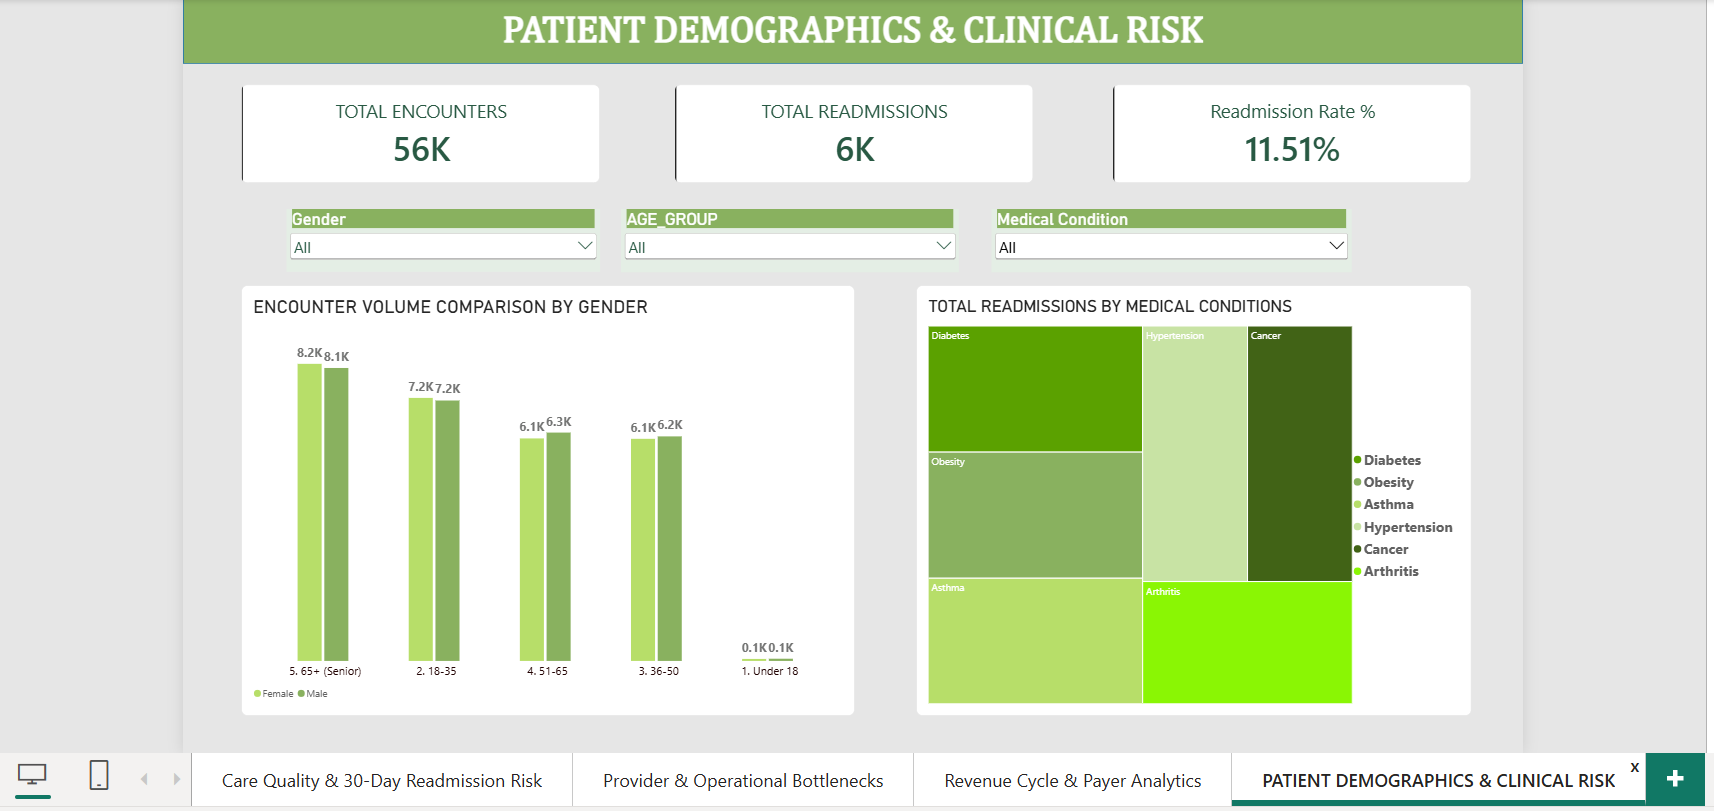

The dashboard page shown, as its layout file describes it:
{"tool":"powerbi","page":{"name":"PATIENT DEMOGRAPHICS & CLINICAL RISK","canvas":[1920,1080],"ordinal":3},"visuals":[{"type":"shape","box":[0,0,1919.2,92.9],"z":0},{"type":"cardVisual","fields":{"Data":["Sum(VW_PILLAR4_DEMOGRAPHICS.TOTAL_ENCOUNTERS)"]},"box":[83.1,122.2,513.4,141.8],"z":1000},{"type":"cardVisual","fields":{"Data":["Sum(VW_PILLAR4_DEMOGRAPHICS.READMITTED_COUNT)"]},"box":[704.1,122.2,513.4,141.8],"z":2000},{"type":"cardVisual","fields":{"Data":["VW_PILLAR4_DEMOGRAPHICS.Demo Readmission Rate %"]},"box":[1332.4,122.2,513.4,141.8],"z":3000},{"type":"clusteredColumnChart","title":"ENCOUNTER VOLUME COMPARISON BY GENDER","fields":{"Category":["VW_PILLAR4_DEMOGRAPHICS.AGE_GROUP"],"Y":["Sum(VW_PILLAR4_DEMOGRAPHICS.TOTAL_ENCOUNTERS)"],"Series":["VW_PILLAR4_DEMOGRAPHICS.Gender"]},"box":[83.1,410.7,877.7,616.1],"z":4000},{"type":"slicer","fields":{"Values":["VW_PILLAR4_DEMOGRAPHICS.Gender"]},"box":[148.3,300.8,449.1,90.2],"z":5000},{"type":"slicer","fields":{"Values":["VW_PILLAR4_DEMOGRAPHICS.AGE_GROUP"]},"box":[628.3,300.7,484.1,90.5],"z":6000},{"type":"slicer","fields":{"Values":["VW_PILLAR4_DEMOGRAPHICS.Medical Condition"]},"box":[1158.1,300.8,515.9,90.5],"z":7000},{"type":"treemap","title":"TOTAL READMISSIONS BY MEDICAL CONDITIONS","fields":{"Group":["VW_PILLAR4_DEMOGRAPHICS.Medical Condition"],"Values":["Sum(VW_PILLAR4_DEMOGRAPHICS.READMITTED_COUNT)"]},"box":[1051.3,410.7,794.6,616.1],"z":8000}]}

Visuals, with their boxes on the page's 1920x1080 design canvas (x1, y1, x2, y2). These are canvas units, not pixel positions in the 1714x811 screenshot, which may show the page scaled, cropped or inside an application window:
shape: region(0, 0, 1919, 93)
cardVisual - Sum(VW_PILLAR4_DEMOGRAPHICS.TOTAL_ENCOUNTERS): region(83, 122, 596, 264)
cardVisual - Sum(VW_PILLAR4_DEMOGRAPHICS.READMITTED_COUNT): region(704, 122, 1218, 264)
cardVisual - VW_PILLAR4_DEMOGRAPHICS.Demo Readmission Rate %: region(1332, 122, 1846, 264)
"ENCOUNTER VOLUME COMPARISON BY GENDER" clusteredColumnChart: region(83, 411, 961, 1027)
slicer - VW_PILLAR4_DEMOGRAPHICS.Gender: region(148, 301, 597, 391)
slicer - VW_PILLAR4_DEMOGRAPHICS.AGE_GROUP: region(628, 301, 1112, 391)
slicer - VW_PILLAR4_DEMOGRAPHICS.Medical Condition: region(1158, 301, 1674, 391)
"TOTAL READMISSIONS BY MEDICAL CONDITIONS" treemap: region(1051, 411, 1846, 1027)
